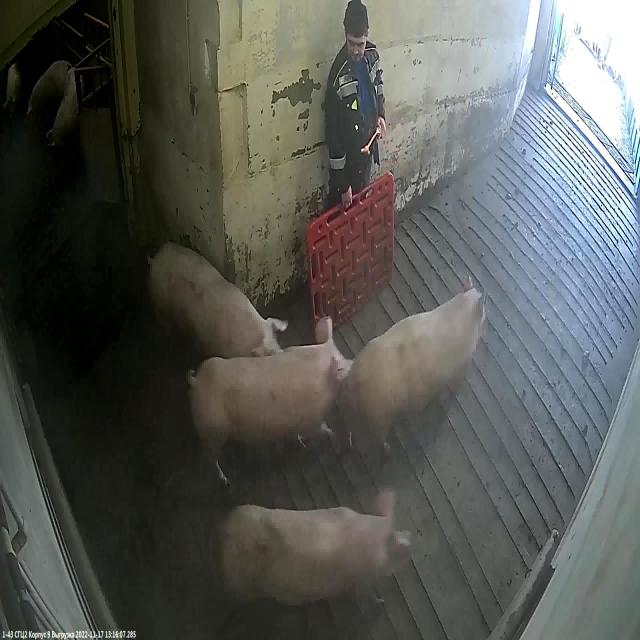pig: (338, 288, 486, 471), (188, 324, 351, 489), (218, 505, 410, 610), (148, 244, 286, 376), (45, 71, 83, 148), (28, 61, 73, 118), (3, 65, 23, 113)
